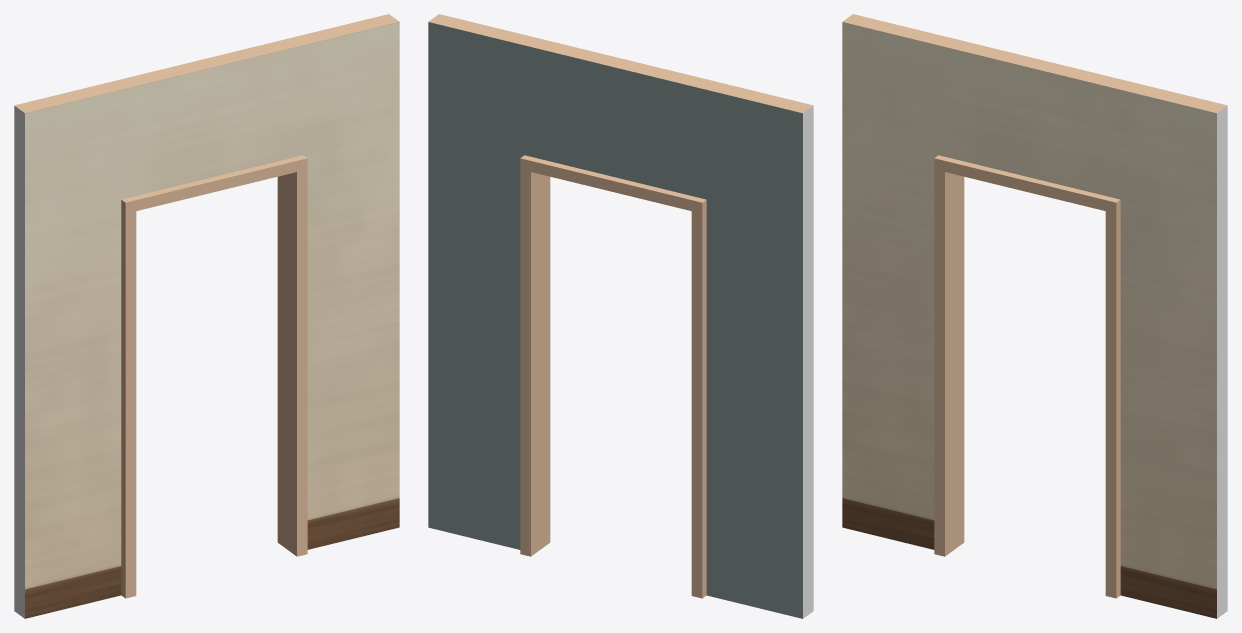
The model's file is wallDoorway.glb.
3 renders of one model, left to right at view 1: azimuth 30°, elevation 25°; view 2: azimuth 150°, elevation 25°; view 3: azimuth 330°, elevation 25°, orthographic.
Parts seen in each view (by area): view 1: wallDoorway; view 2: wallDoorway; view 3: wallDoorway.
Part boxes in pixels (x1,y1,x2,y2): wallDoorway: (14, 14, 399, 618); wallDoorway: (428, 14, 813, 618); wallDoorway: (842, 14, 1227, 618).
Bounding box in the file's own units: 1 × 1.29 × 0.0891.
4 materials, 1 textured.
